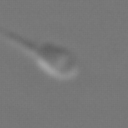normal: (1, 27, 43, 54)
